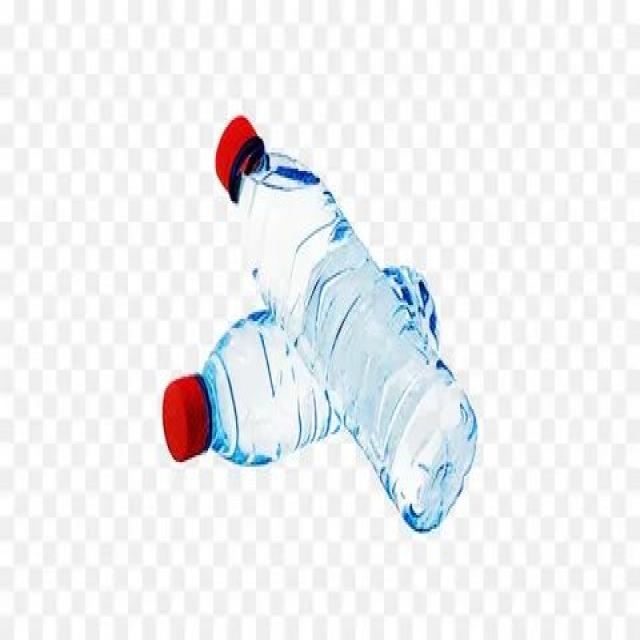blue: (235, 149, 476, 535)
